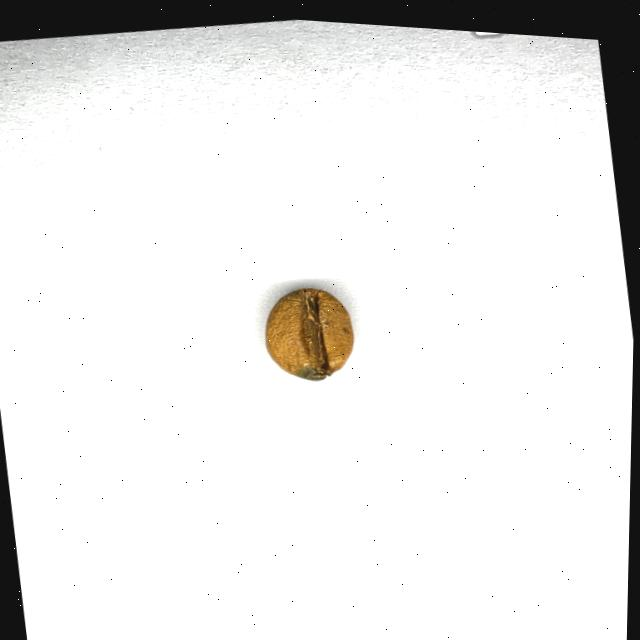Scorched: (258, 278, 363, 383)
